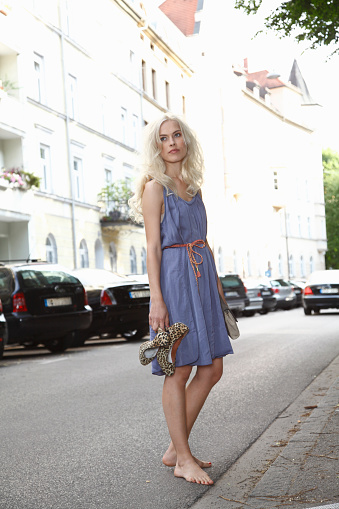em pe: (129, 92, 234, 482)
